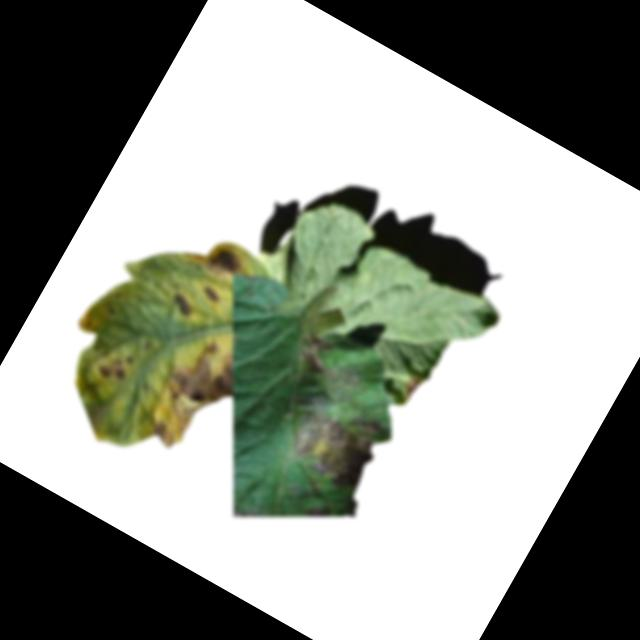Early_blight: (136, 328, 252, 464), (271, 380, 394, 495), (290, 329, 341, 379), (203, 238, 251, 282), (94, 341, 137, 385), (165, 288, 195, 316), (399, 371, 425, 401), (202, 284, 223, 303)
